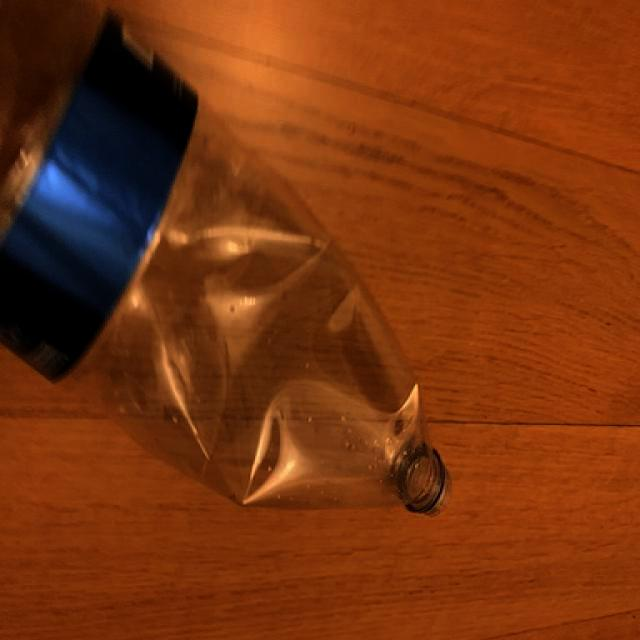bottle: (0, 7, 452, 518)
